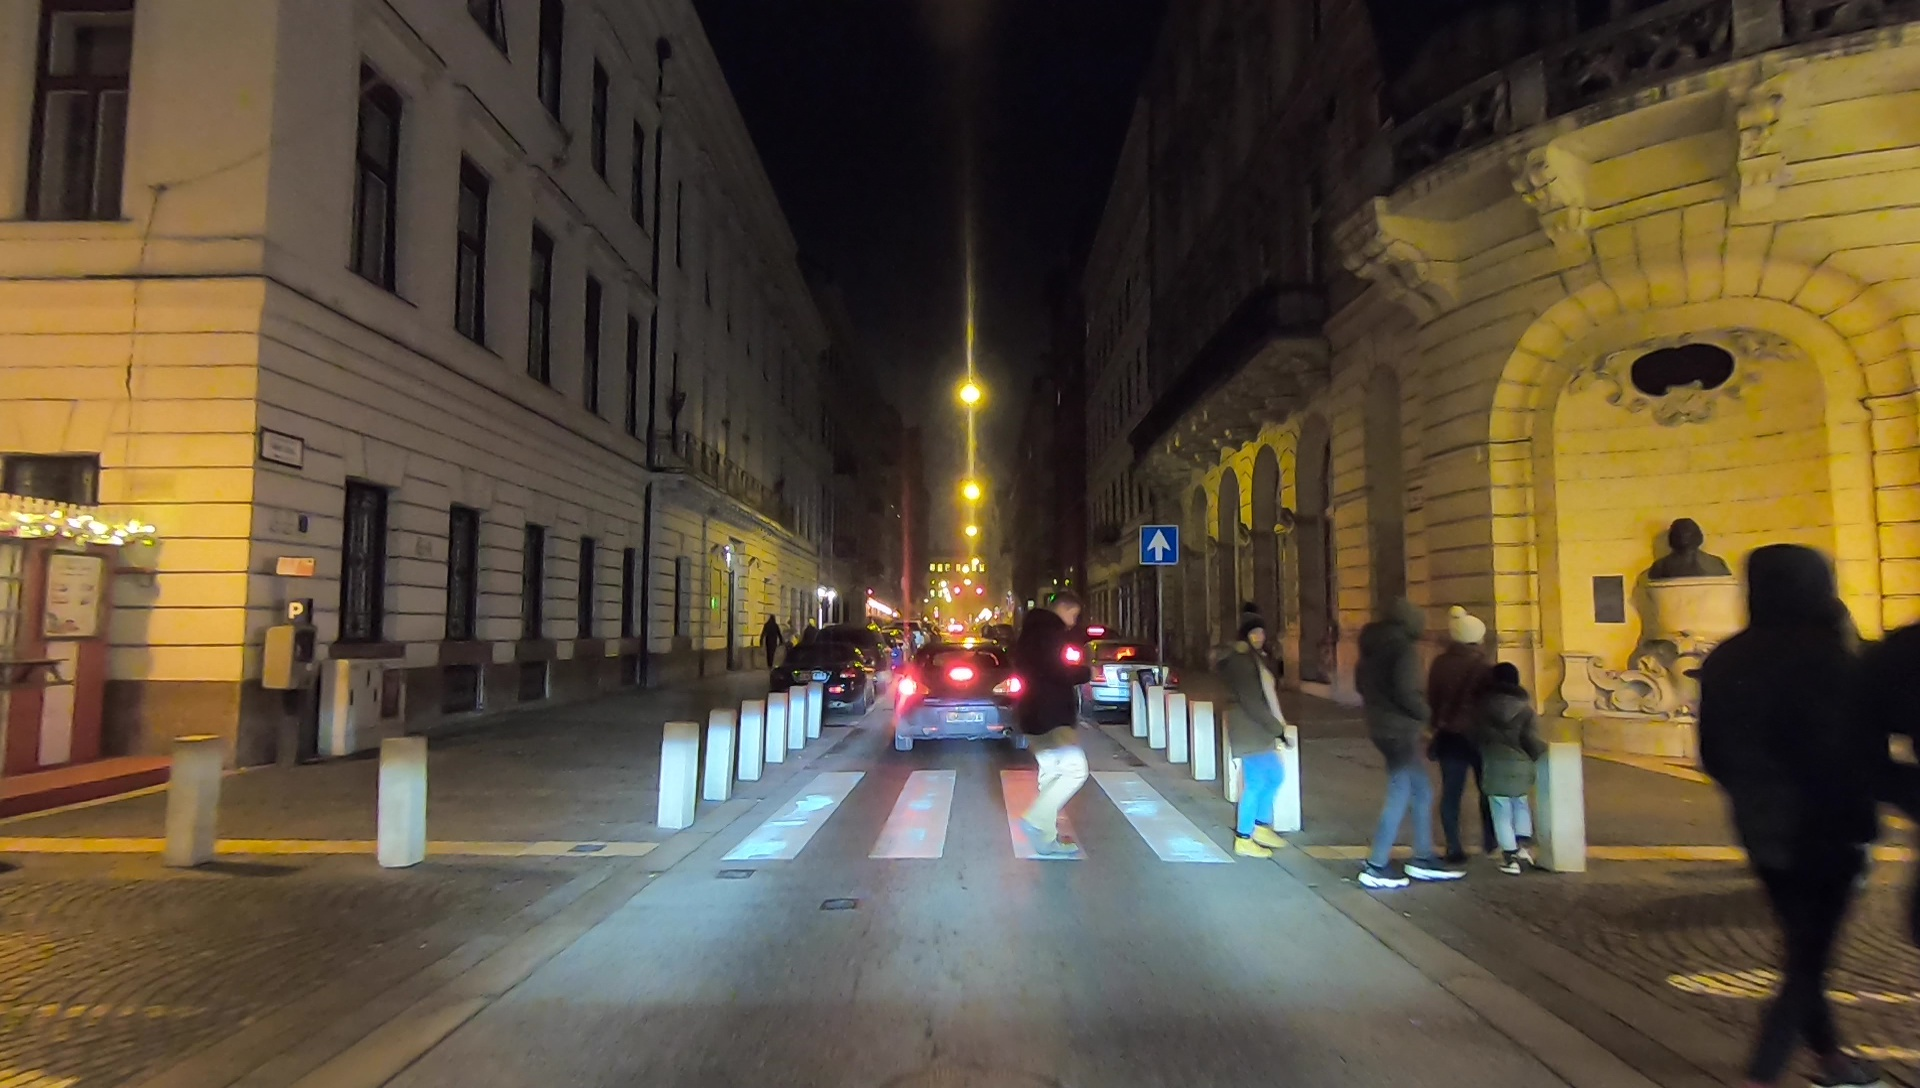person: (1682, 526, 1880, 1088), (1338, 591, 1449, 899), (1004, 595, 1095, 861), (1202, 610, 1291, 860), (1438, 604, 1506, 861), (1491, 660, 1532, 873), (758, 615, 782, 678)
